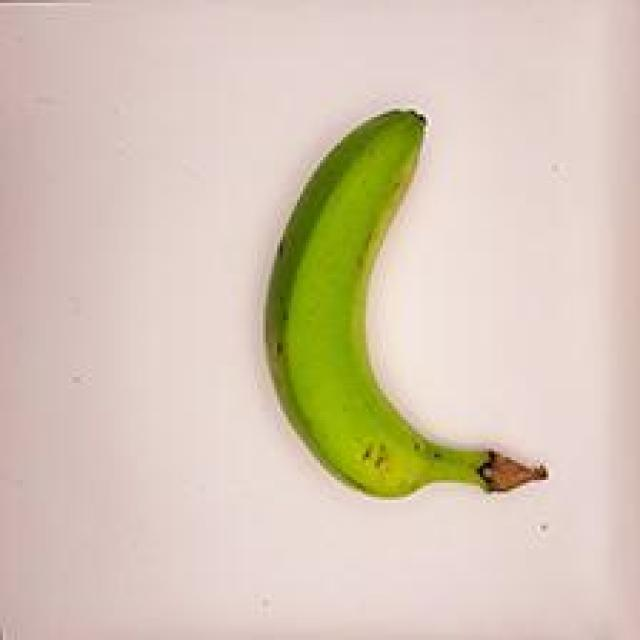Unripe: (247, 95, 553, 516)
